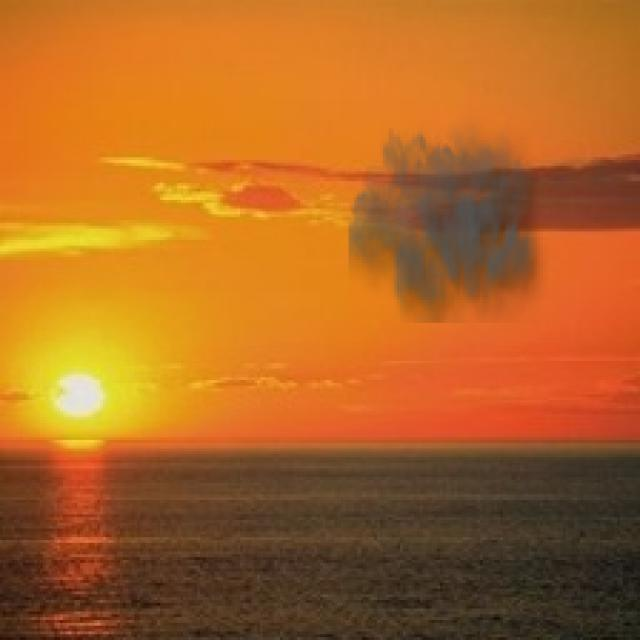Smoke: (348, 106, 552, 323)
